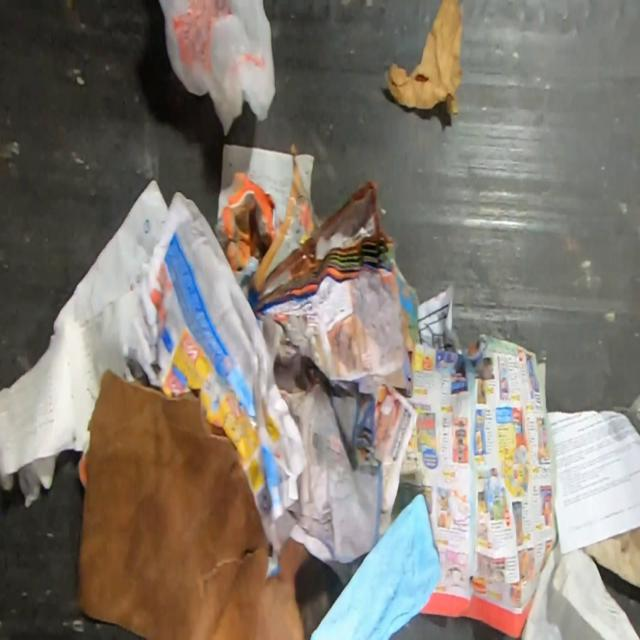soft_plastic: (154, 0, 277, 138)
